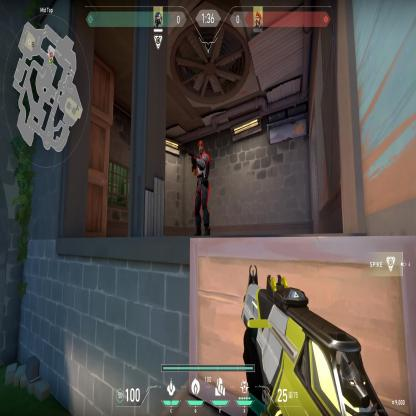enemy: (190, 138, 213, 236)
